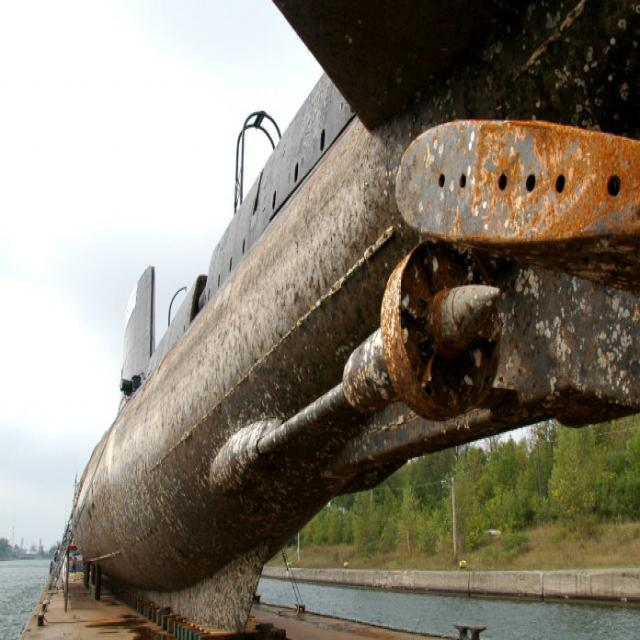submarine: (77, 1, 640, 587)
